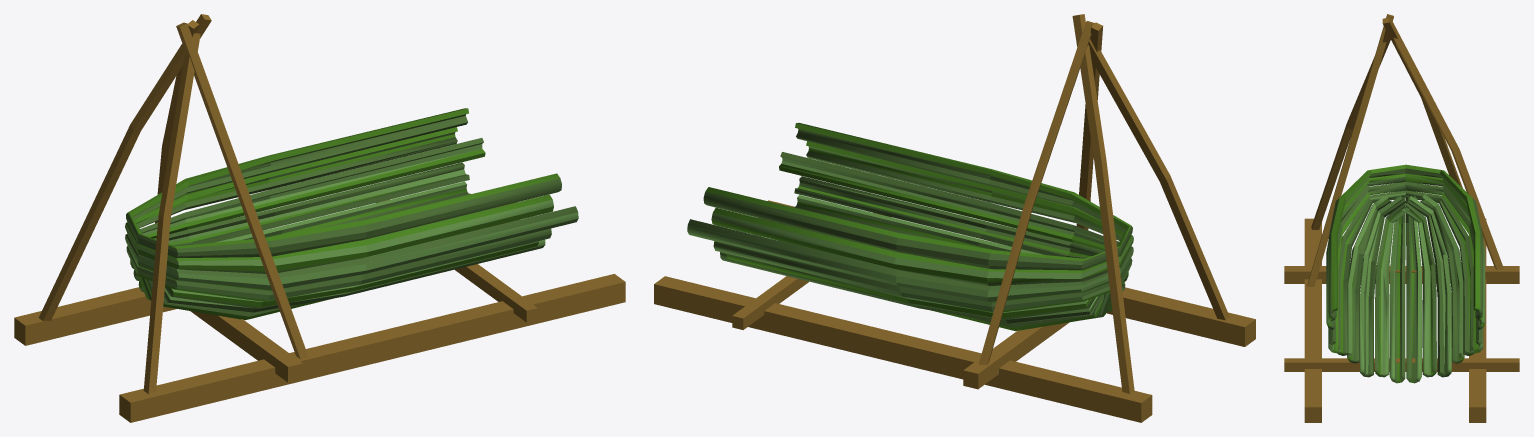
Rendered from pariDecimated.fbx.
3 renders of one model, left to right at view 1: azimuth 30°, elevation 25°; view 2: azimuth 150°, elevation 25°; view 3: azimuth 270°, elevation 25°, orthographic. The views are drawn at different scales.
Parts seen in each view (by area): view 1: pari, estruturaPari; view 2: pari, estruturaPari; view 3: pari, estruturaPari.
Part boxes in pixels (left/top/right/bottom): pari: left=125, top=108, right=578, bottom=320; estruturaPari: left=14, top=14, right=625, bottom=422; pari: left=687, top=123, right=1133, bottom=331; estruturaPari: left=654, top=14, right=1255, bottom=422; pari: left=1326, top=164, right=1485, bottom=383; estruturaPari: left=1284, top=14, right=1519, bottom=422.
Size of the model in its own units: 426 by 278 by 224.
